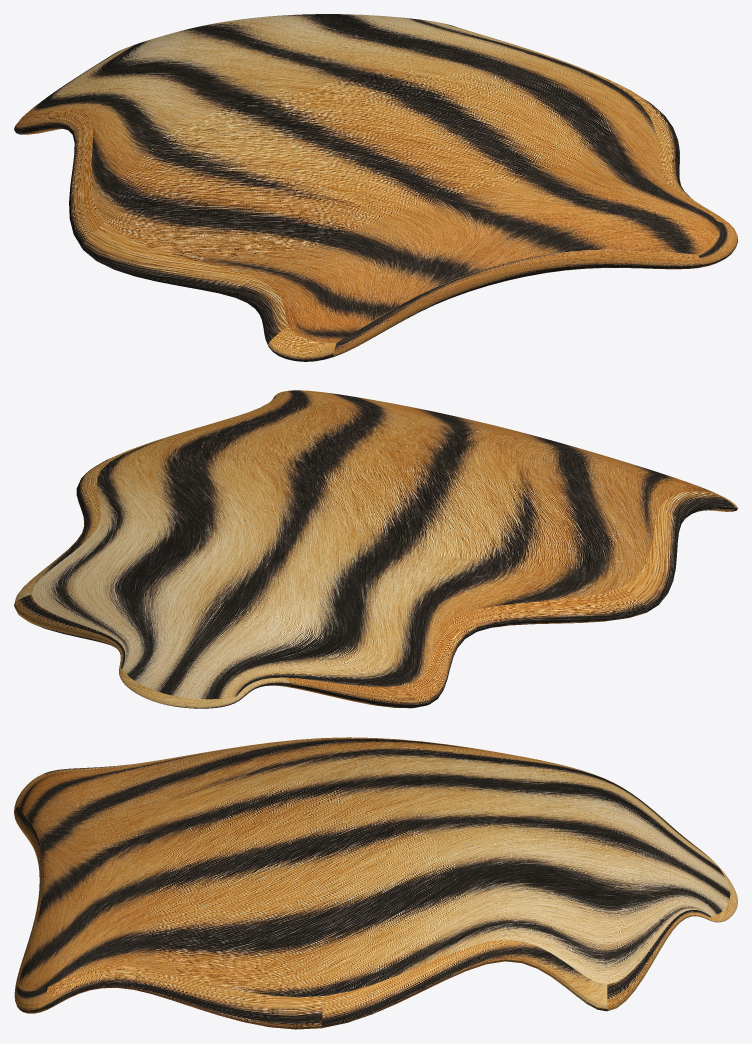
Rendered from fur_d.glb.
The picture shows the model from 3 angles, top to bottom: view 1: azimuth 30°, elevation 25°; view 2: azimuth 150°, elevation 25°; view 3: azimuth 270°, elevation 25°; orthographic projection. The views are drawn at different scales.
Visible parts, largest first — view 1: Cube; view 2: Cube; view 3: Cube.
Part boxes in pixels (x1=…): Cube: x1=14, y1=14, x2=737, y2=361; Cube: x1=14, y1=390, x2=737, y2=708; Cube: x1=14, y1=737, x2=737, y2=1029.
Bounding box in the file's own units: 2.54 × 0.4004 × 2.76.
1 material, 1 textured.
